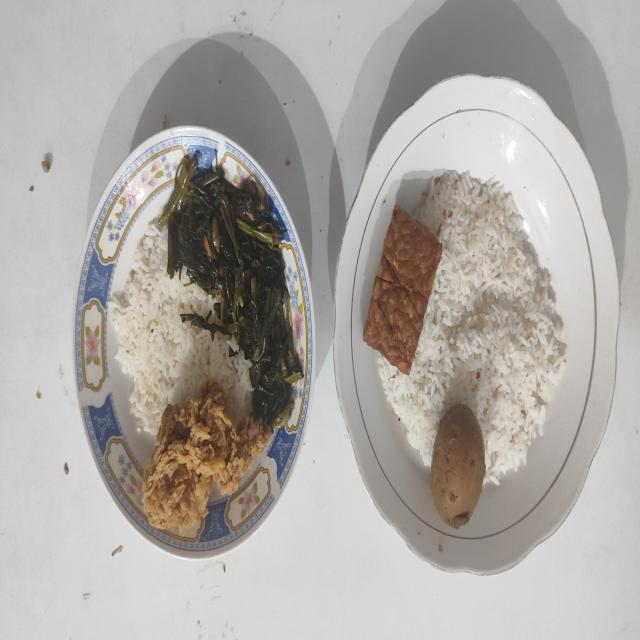nasi_putih: (378, 171, 566, 484), (108, 221, 252, 435)
tempe_goreng: (363, 204, 442, 374)
tumis_kangkung: (158, 150, 305, 428)
